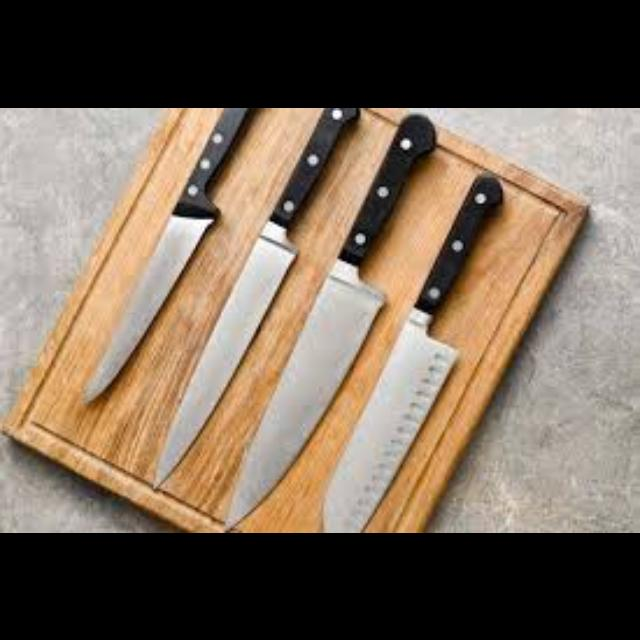knife: (221, 112, 435, 530), (152, 108, 360, 488), (320, 170, 502, 530), (80, 108, 260, 404)
